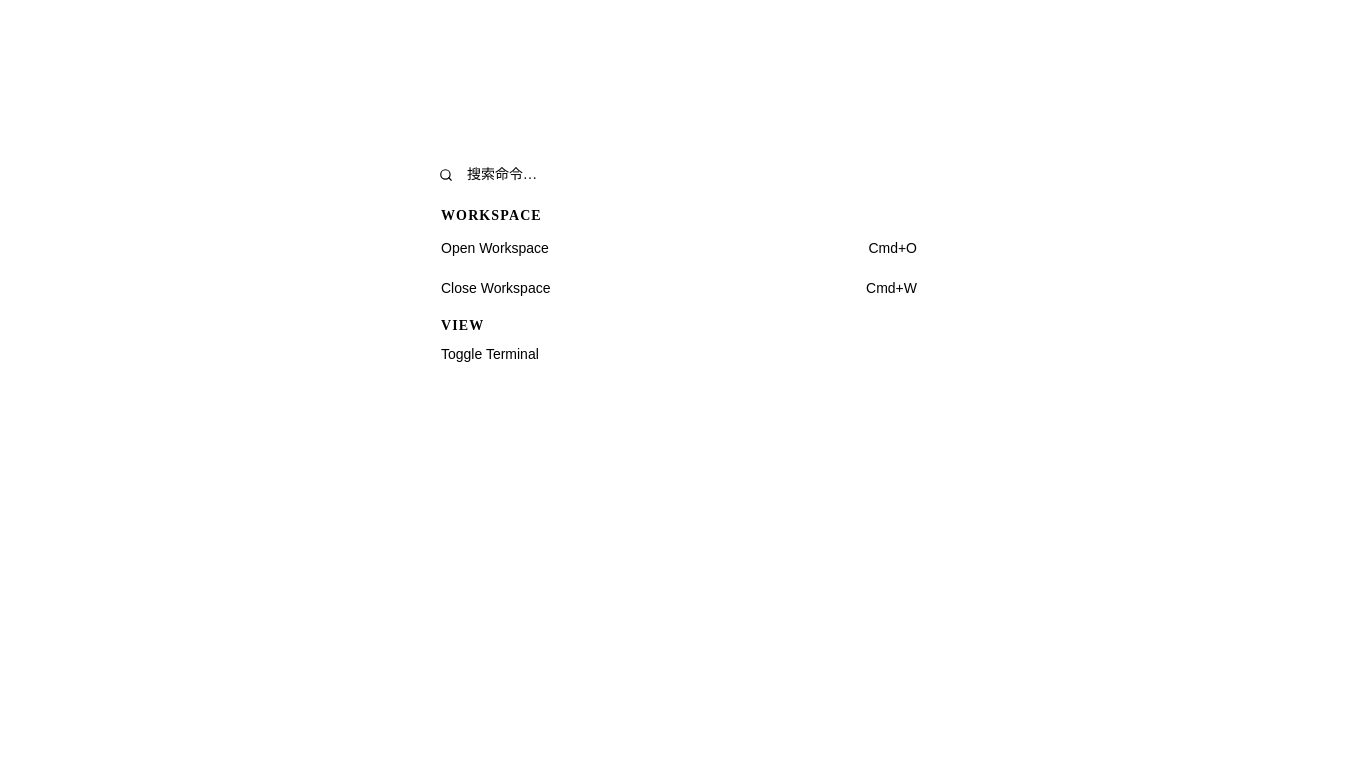
CommandPalette › filters commands by query and shows empty state when no command matches
Type "toggle" into the field labelled "搜索命令" at (696, 175), box [465,166,927,184]
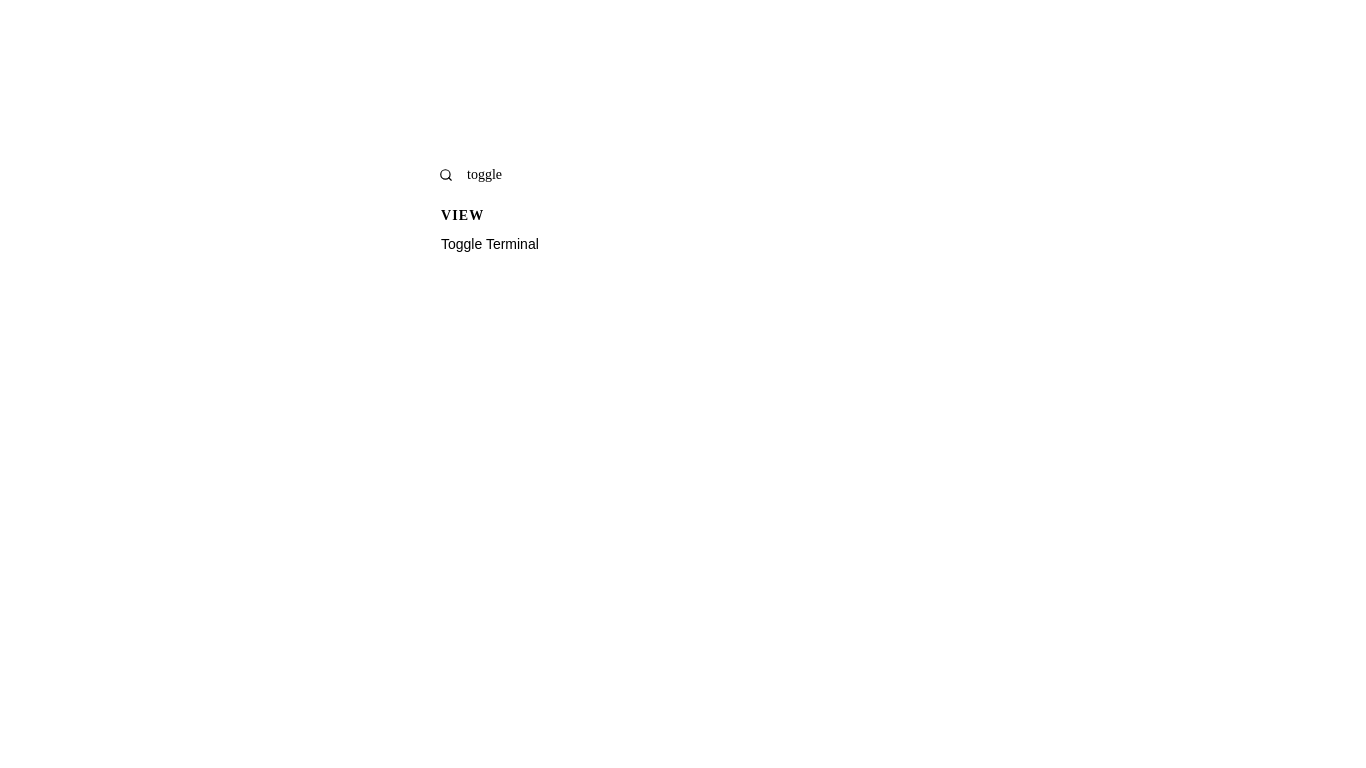
Expected: the option "Toggle Terminal" is shown, [429,228,937,260]
Expected: the option "Open Workspace" is gone
Replace the text in the field named "搜索命令" with "workspace" at (696, 175), box [465,166,927,184]
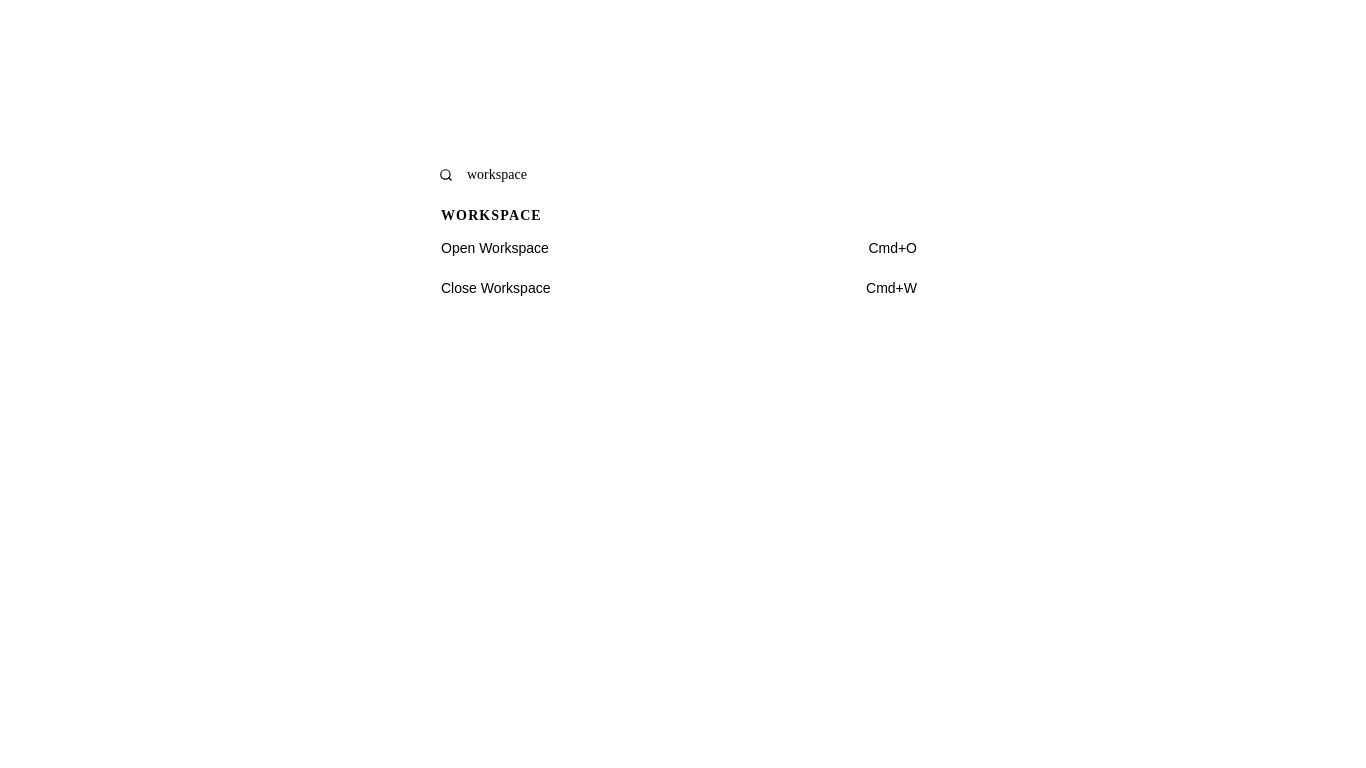
Expected: the option "Open Workspace Cmd+O" is shown, [429,228,937,268]
Expected: the option "Close Workspace Cmd+W" is shown, [429,268,937,308]
Replace the text in the field named "搜索命令" with "does-not-exist" at (696, 175), box [465,166,927,184]
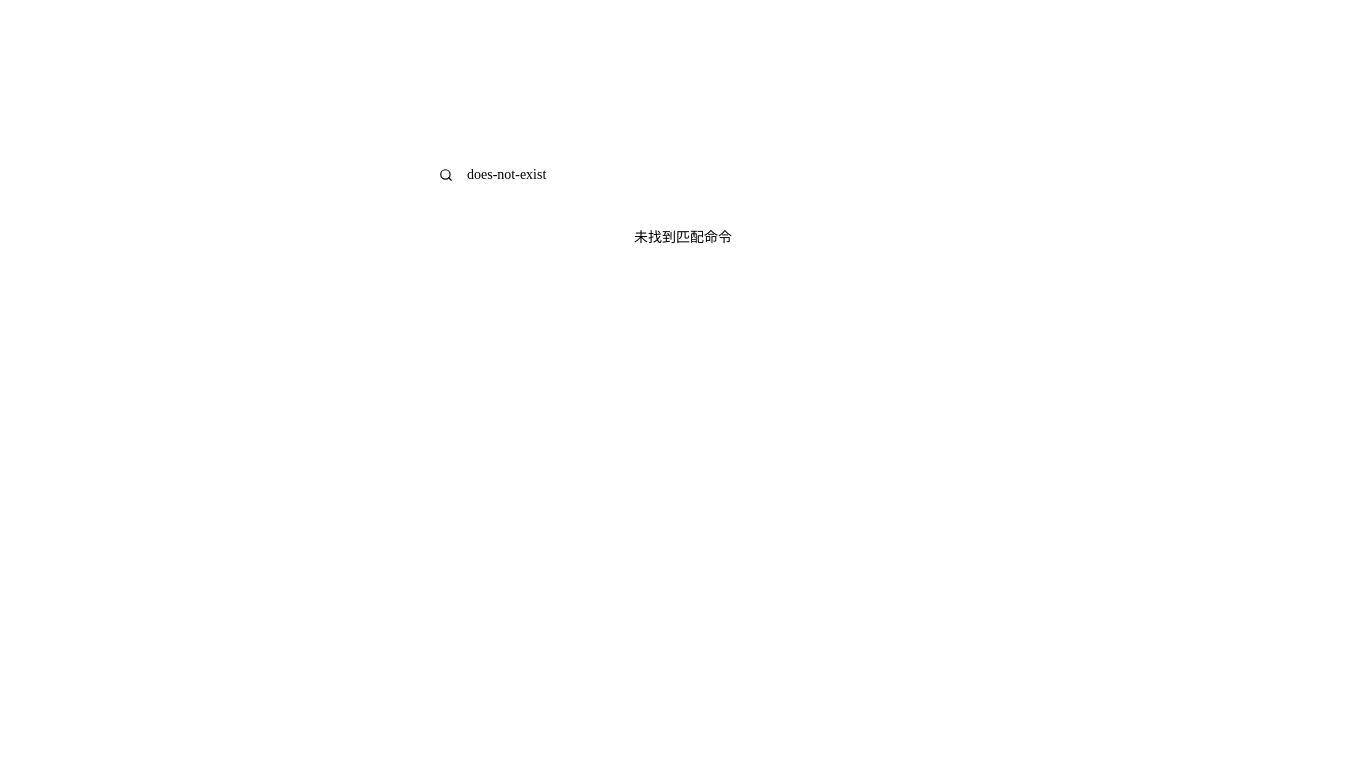
Expected: the text "未找到匹配命令" is shown, [634,230,732,245]
